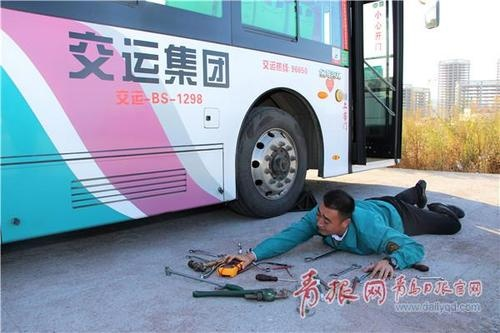falling: (188, 165, 476, 284)
